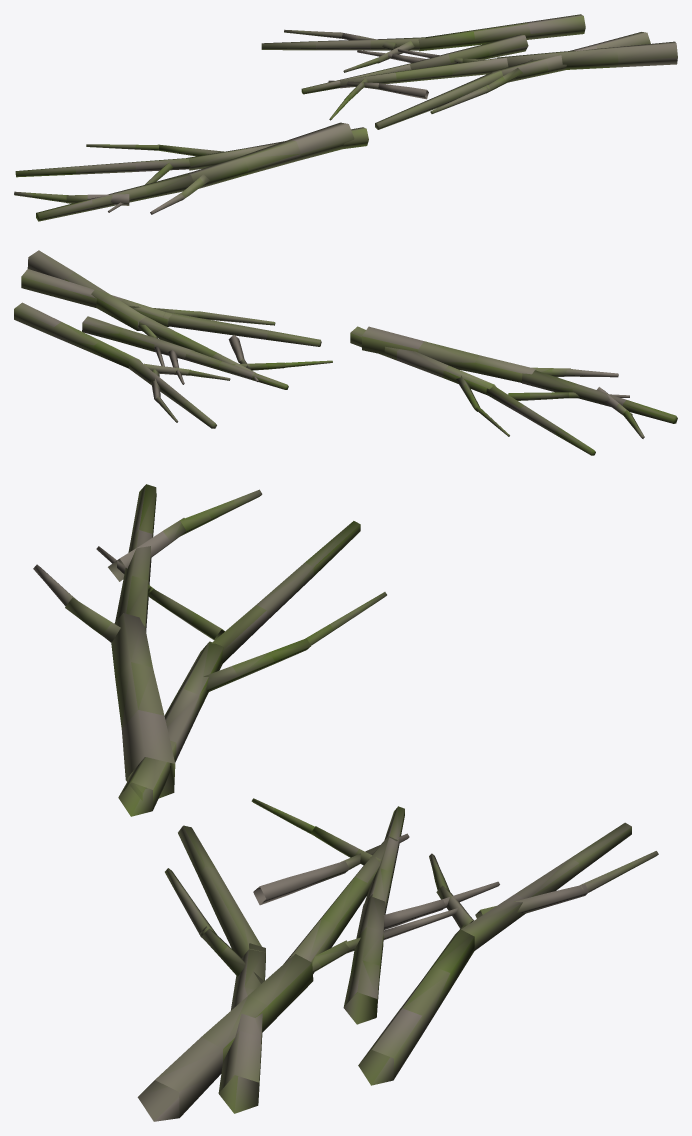
The model's file is branches_a.glb.
3 views of the same model, one above another, from view 1: azimuth 30°, elevation 25°; view 2: azimuth 150°, elevation 25°; view 3: azimuth 270°, elevation 25° (orthographic). The views are drawn at different scales.
Visible parts, largest first — view 1: branches_a; view 2: branches_a; view 3: branches_a.
Part boxes in pixels (left/top/right/bottom): branches_a: left=14, top=14, right=677, bottom=221; branches_a: left=14, top=250, right=677, bottom=455; branches_a: left=33, top=484, right=658, bottom=1121.
Bounding box in the file's own units: 4.46 × 0.1559 × 1.89.
